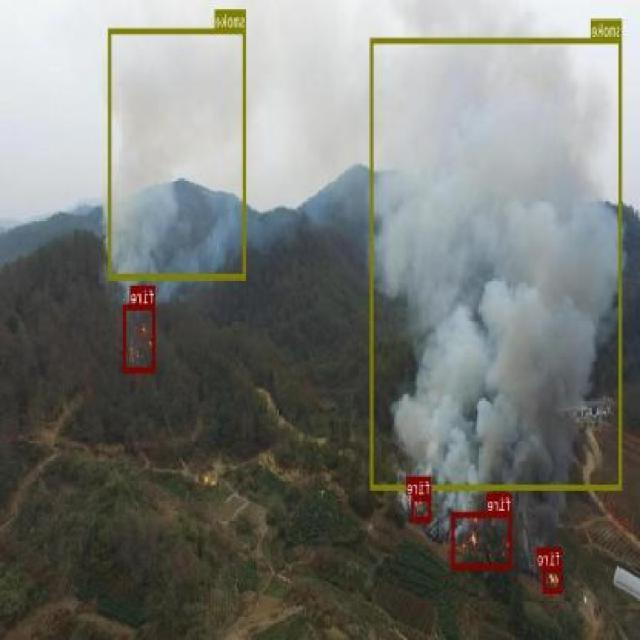Fire: (452, 512, 512, 568), (122, 304, 156, 372), (412, 494, 432, 522), (544, 566, 562, 592)
Smoke: (371, 38, 624, 488), (108, 29, 247, 278)
